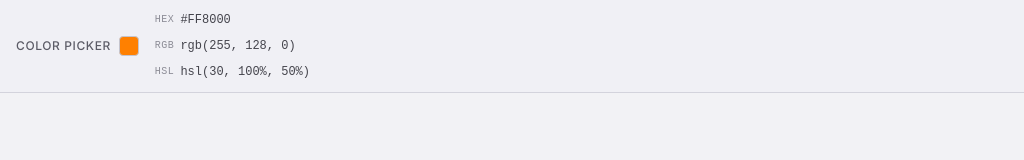
Test: EyedropperControls — copying › copies the hex from the swatch and confirms
The image size is (1024, 160).
Click the element titled "Click to copy HEX" at (129, 46), box [119,36,139,56]
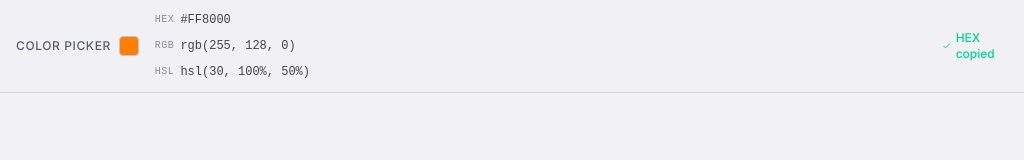
Result: the text "HEX copied" is shown at [942,30,995,61]
